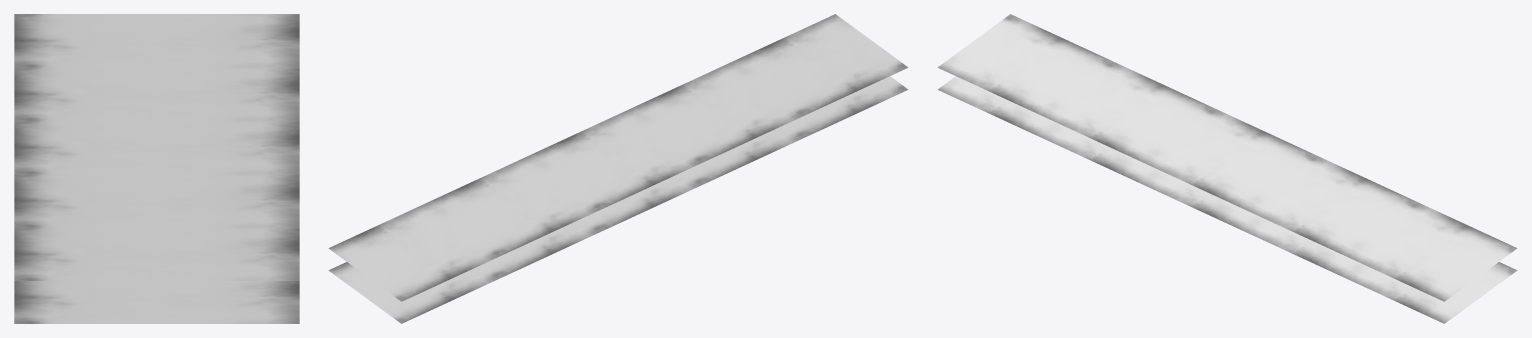
The model's file is CourseWinter_Floor_2.fbx.
3 views of the same model, side by side, from view 1: azimuth 30°, elevation 25°; view 2: azimuth 150°, elevation 25°; view 3: azimuth 270°, elevation 25° (orthographic). The views are drawn at different scales.
Visible parts, largest first — view 1: polySurface630; view 2: polySurface630; view 3: polySurface630.
Boxes of the visible parts, x1,y1,x2,y2 form: polySurface630: (14,14,299,323); polySurface630: (328,14,908,323); polySurface630: (937,14,1517,323).
Size of the model in its own units: 17.2 by 6 by 23.78.
Materials: 1 (1 with a texture image).
